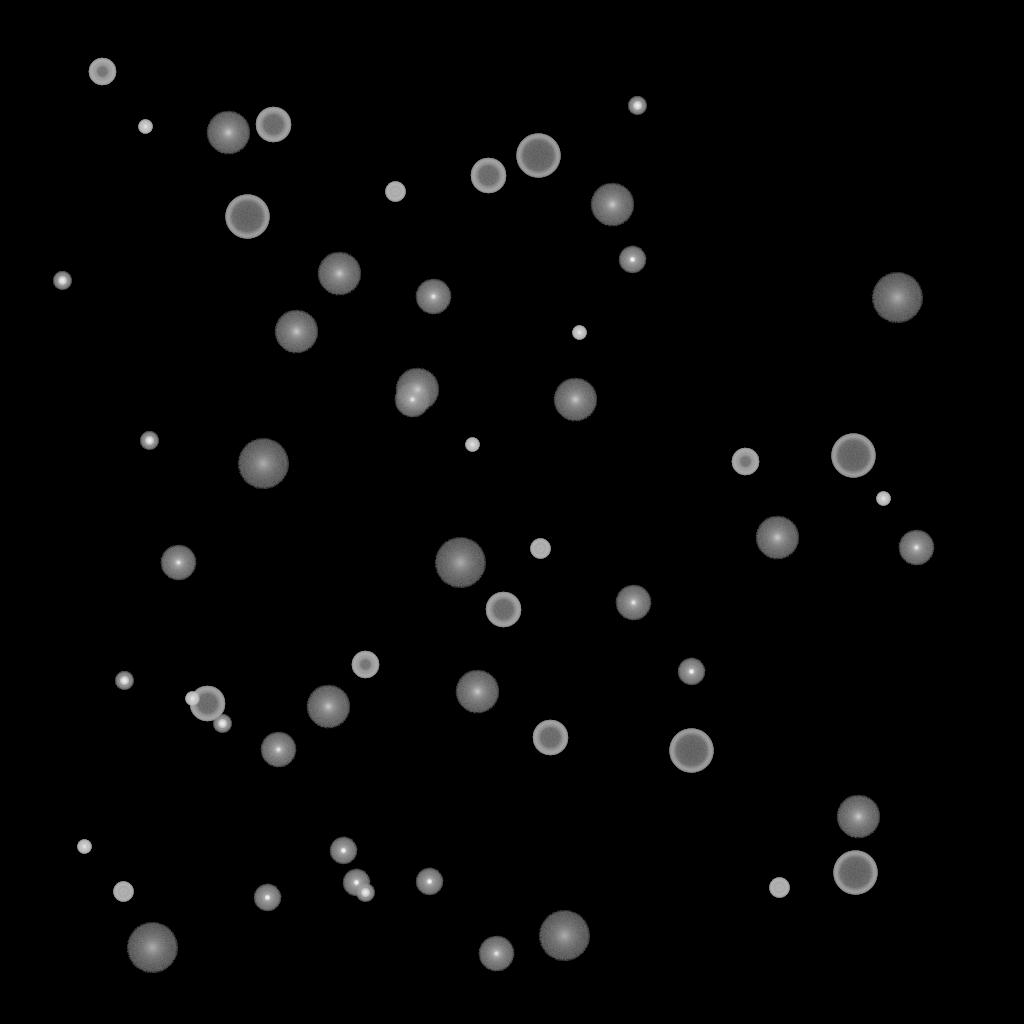depth:-10: (415, 868, 443, 896), (329, 837, 357, 865), (618, 246, 646, 274), (253, 884, 281, 912), (677, 658, 705, 686), (342, 869, 370, 897)
depth:-20: (356, 884, 374, 902), (628, 97, 646, 115), (115, 672, 133, 690), (53, 272, 71, 290), (213, 715, 231, 733), (140, 432, 158, 450)
depth:-30: (185, 692, 199, 706), (572, 326, 586, 340), (465, 438, 479, 452), (138, 120, 152, 134), (77, 840, 91, 854), (876, 492, 890, 506)
depth:-40: (769, 878, 789, 898), (113, 882, 133, 902), (385, 182, 405, 202), (530, 539, 550, 559)
depth:-50: (351, 651, 379, 679), (88, 58, 116, 86), (731, 448, 759, 476)
depth:-60: (485, 592, 521, 628), (255, 107, 291, 143), (470, 158, 506, 194), (532, 720, 568, 756), (189, 686, 225, 722)
depth:-70: (516, 134, 560, 178), (225, 195, 269, 239), (831, 434, 875, 478), (669, 729, 713, 773), (833, 851, 877, 895)
depth:0: (260, 732, 296, 768), (898, 530, 934, 566), (615, 585, 651, 621), (478, 936, 514, 972), (415, 279, 451, 315), (394, 382, 430, 418), (160, 545, 196, 581)
depth:10: (836, 795, 880, 839), (395, 368, 439, 412), (206, 111, 250, 155), (274, 310, 318, 354), (455, 670, 499, 714), (553, 378, 597, 422), (317, 252, 361, 296), (306, 685, 350, 729), (755, 516, 799, 560), (590, 183, 634, 227)
depth:20: (126, 923, 178, 973), (538, 911, 590, 961), (871, 273, 923, 323), (434, 538, 486, 588), (237, 439, 289, 489)
